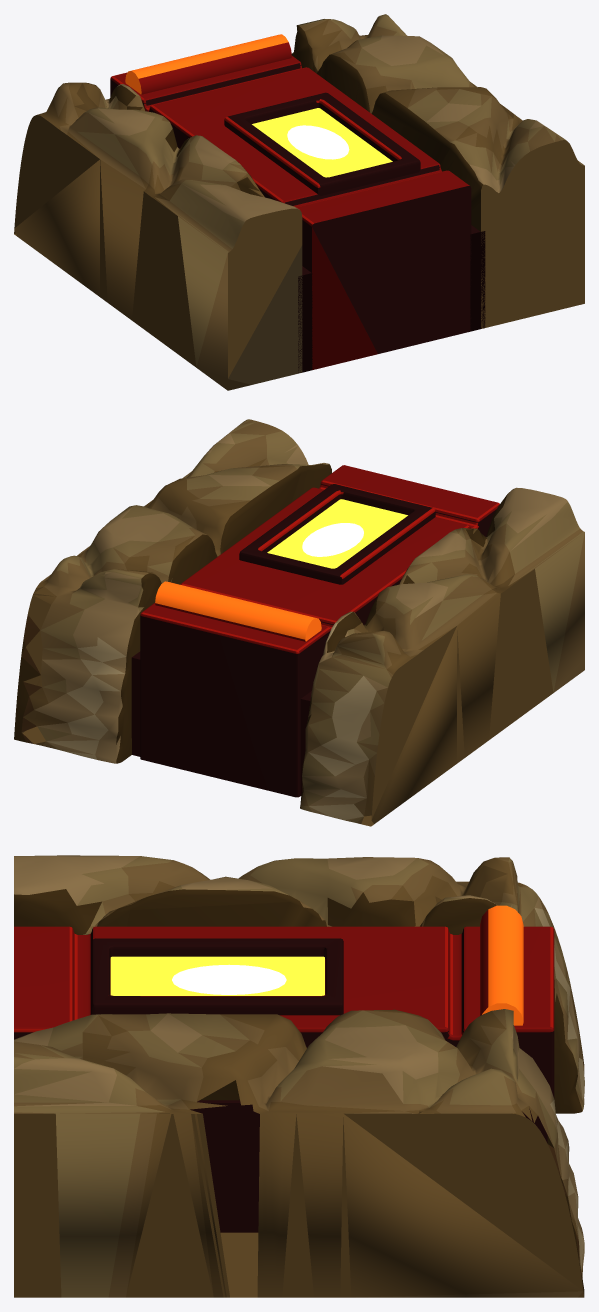
Rendered from ixm_wall_slot_top_281.glb.
3 renders of one model, top to bottom at view 1: azimuth 30°, elevation 25°; view 2: azimuth 150°, elevation 25°; view 3: azimuth 270°, elevation 25°, orthographic. The views are drawn at different scales.
Parts seen in each view (by area): view 1: ixm_wall_slot_top_281; view 2: ixm_wall_slot_top_281; view 3: ixm_wall_slot_top_281.
Boxes of the visible parts, x1=… form: ixm_wall_slot_top_281: x1=14, y1=14, x2=584, y2=390; ixm_wall_slot_top_281: x1=14, y1=419, x2=584, y2=826; ixm_wall_slot_top_281: x1=14, y1=855, x2=584, y2=1297.
Size of the model in its own units: 24 by 10.86 by 24.93.
